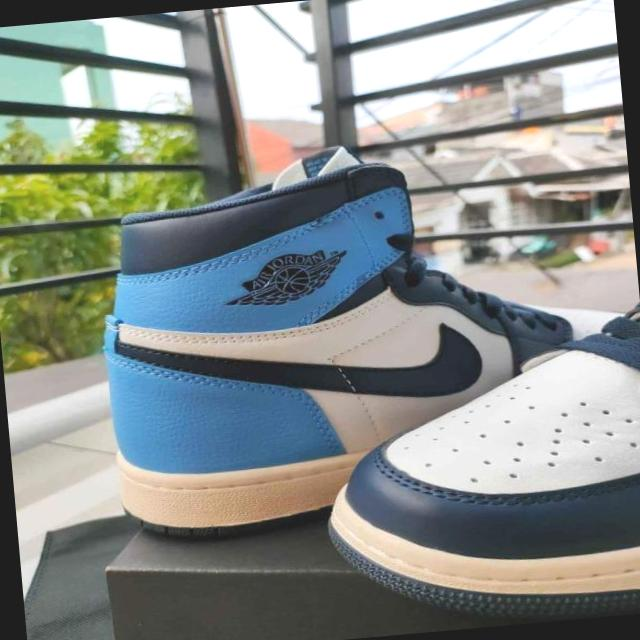nike_original_jordan: (89, 126, 596, 550), (303, 302, 640, 635)
